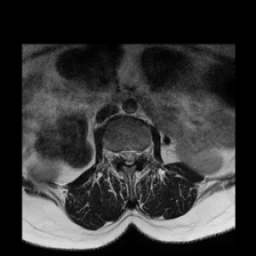CCS_normal: (125, 142, 131, 171)
LFS_stenosis: (138, 142, 144, 164)
LLS_normal: (131, 142, 138, 165)
RFS_stenosis: (112, 143, 119, 165)
RLS_normal: (119, 143, 125, 165)
